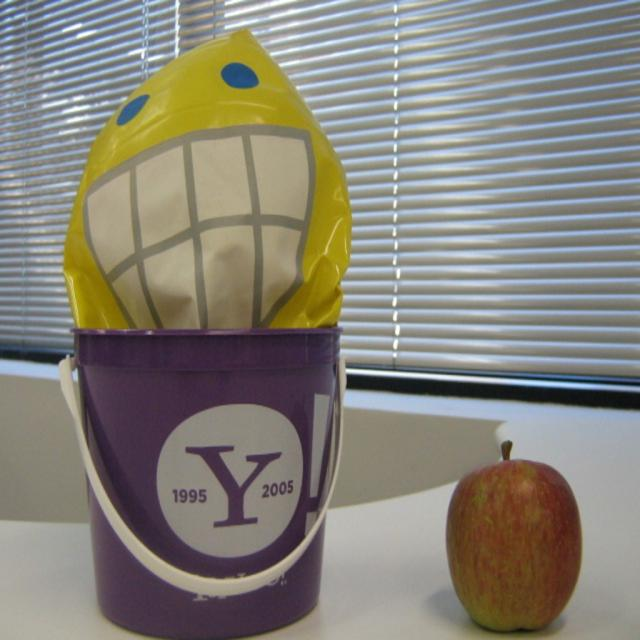Healty Apple: (445, 439, 582, 629)
